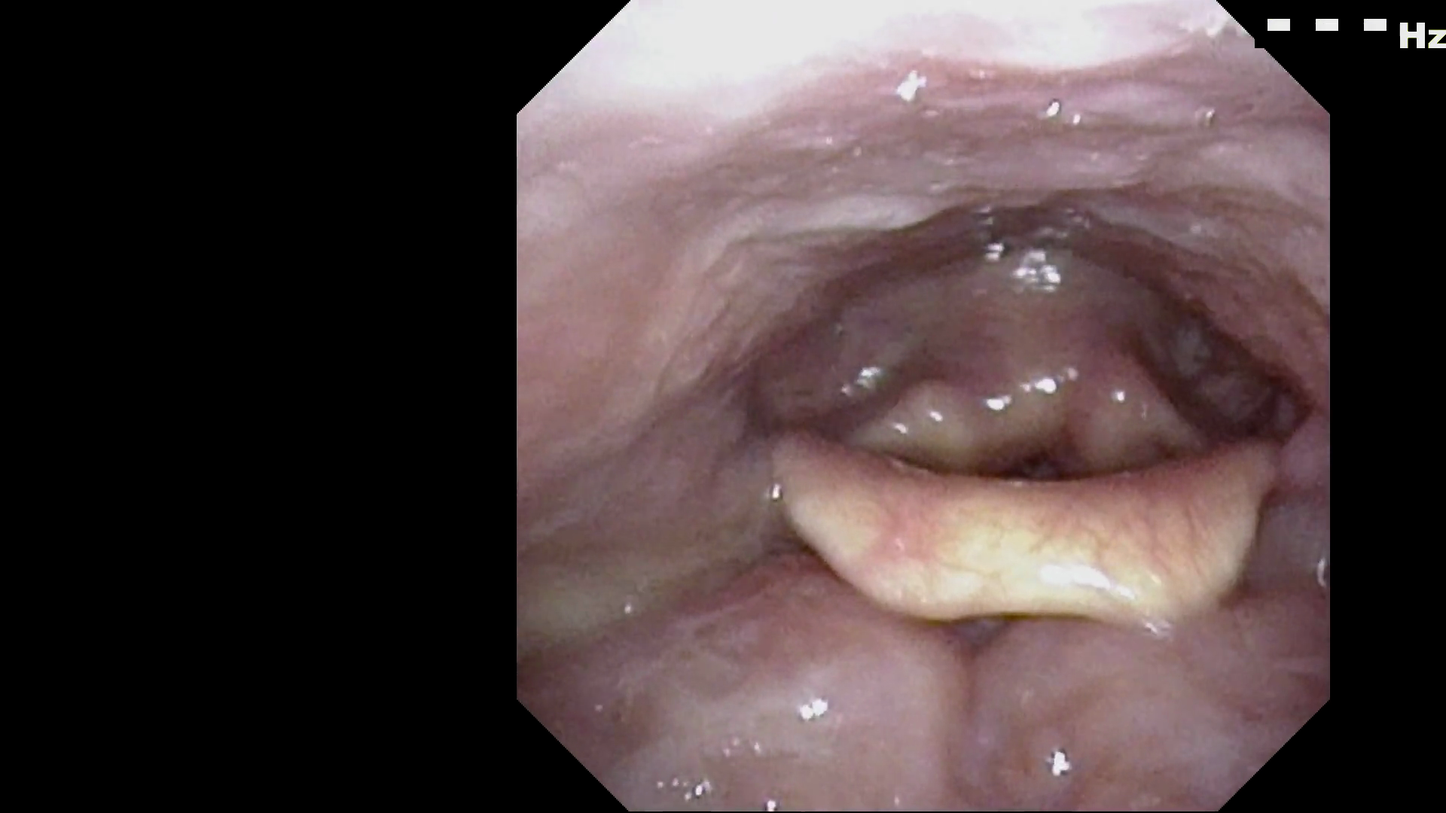epiglottis: (762, 388, 1301, 628)
trachea: (962, 381, 1108, 536)
